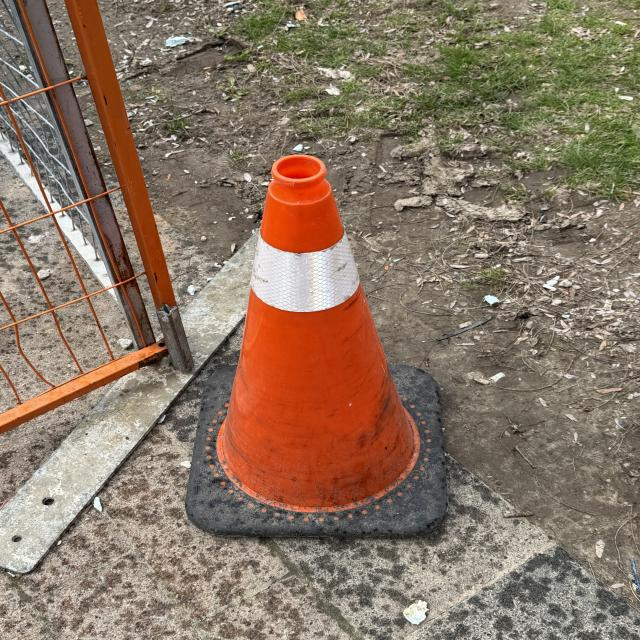Traffic Cone: (183, 155, 456, 539)
